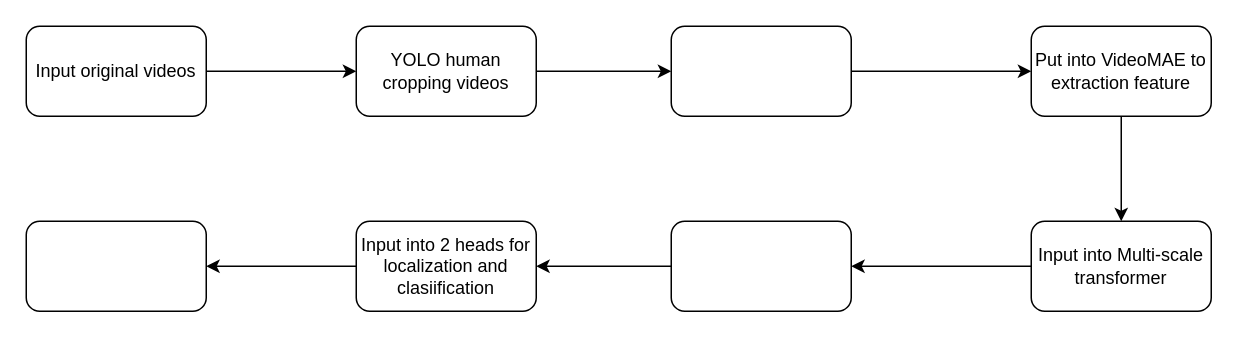
Image size: 1238x338. Some labels were removed from this diagram. Each missing label, with the box of its shape:
Postprocessing to merge all the clips prediction into one last prediction: (25, 220, 206, 311)
Segment into overlapping clips off 16 frames with strike of 8 frames: (670, 25, 851, 116)
Using AMA to extract relationship between relevant clips: (670, 220, 851, 311)
